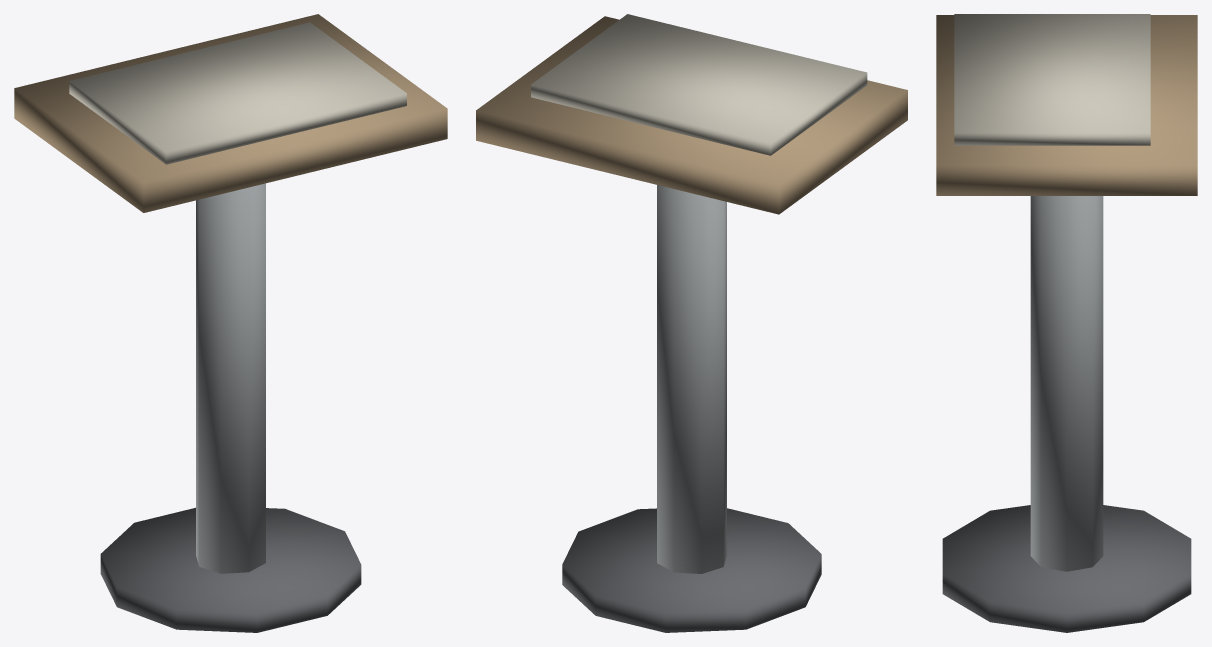
The model's file is memorial_guestbook_stand__squat.glb.
3 views of the same model, side by side, from view 1: azimuth 30°, elevation 25°; view 2: azimuth 150°, elevation 25°; view 3: azimuth 270°, elevation 25° (orthographic).
Parts seen in each view (by area): view 1: world; view 2: world; view 3: world.
Boxes of the visible parts, left/top/right/bottom form: world: left=14, top=14, right=447, bottom=632; world: left=476, top=14, right=907, bottom=632; world: left=936, top=14, right=1197, bottom=632.
Bounding box in the file's own units: 0.528 × 0.8253 × 0.3888.
